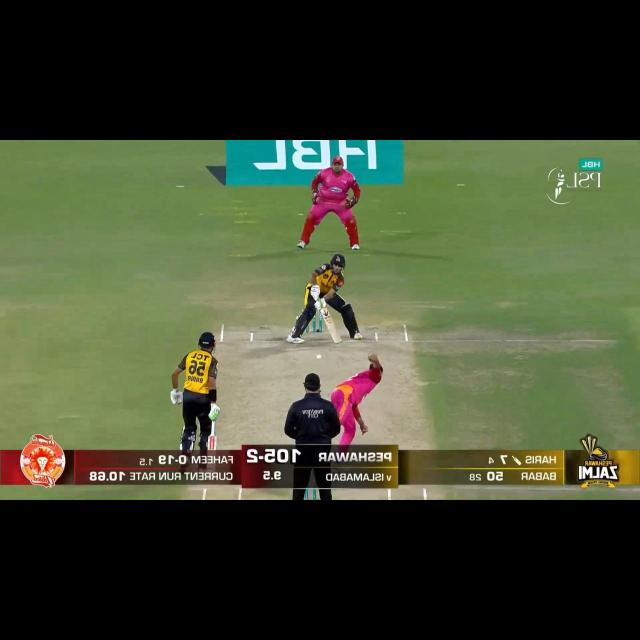bat: (318, 307, 342, 346), (206, 434, 218, 453)
toe: (331, 332, 342, 345)
